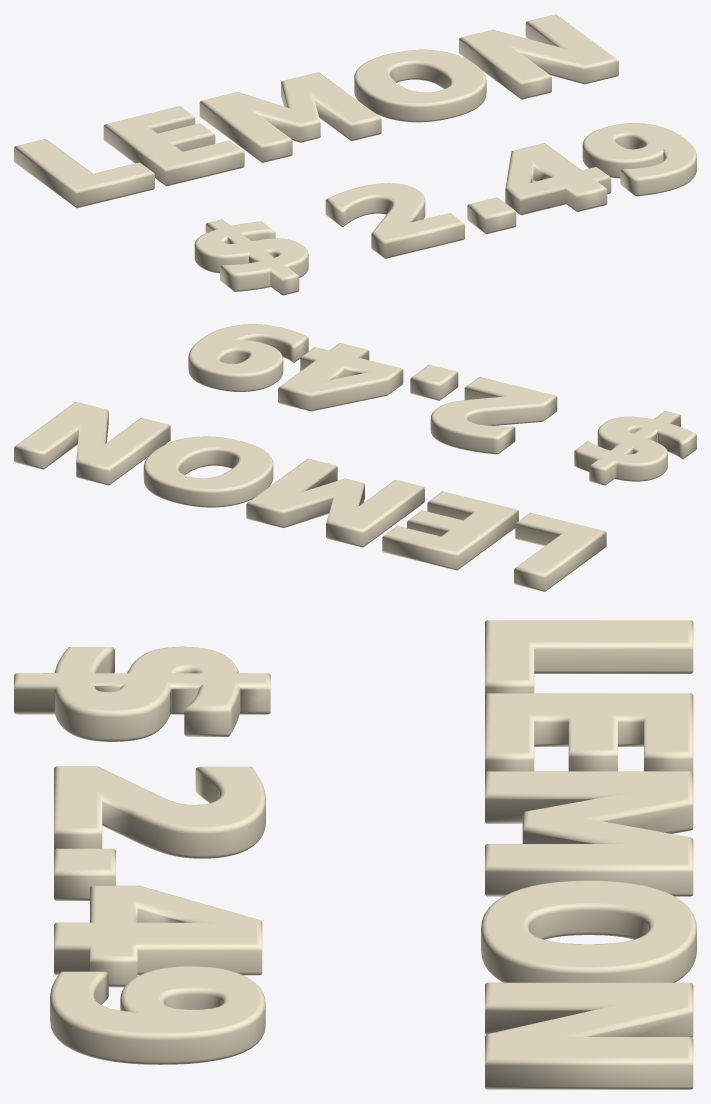
File: SM_EG_Produce_price_efecc01a40.fbx
3 renders of one model, top to bottom at view 1: azimuth 30°, elevation 25°; view 2: azimuth 150°, elevation 25°; view 3: azimuth 270°, elevation 25°, orthographic. The views are drawn at different scales.
Parts seen in each view (by area): view 1: SM_EG_Produce_price_efecc01a40; view 2: SM_EG_Produce_price_efecc01a40; view 3: SM_EG_Produce_price_efecc01a40.
Part boxes in pixels (<box>): SM_EG_Produce_price_efecc01a40: <box>14,14,696,295</box>; SM_EG_Produce_price_efecc01a40: <box>14,324,696,591</box>; SM_EG_Produce_price_efecc01a40: <box>14,620,696,1089</box>.
Size of the model in its own units: 13.35 by 8.72 by 0.44.
